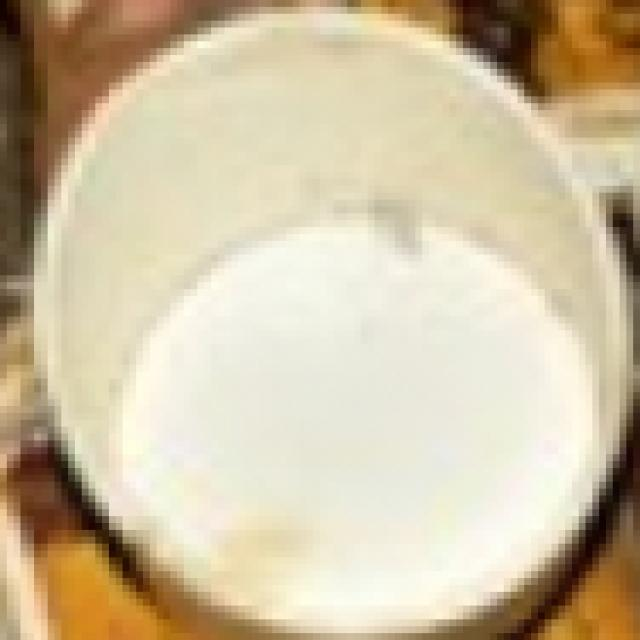plastic cup: (34, 0, 640, 612)
